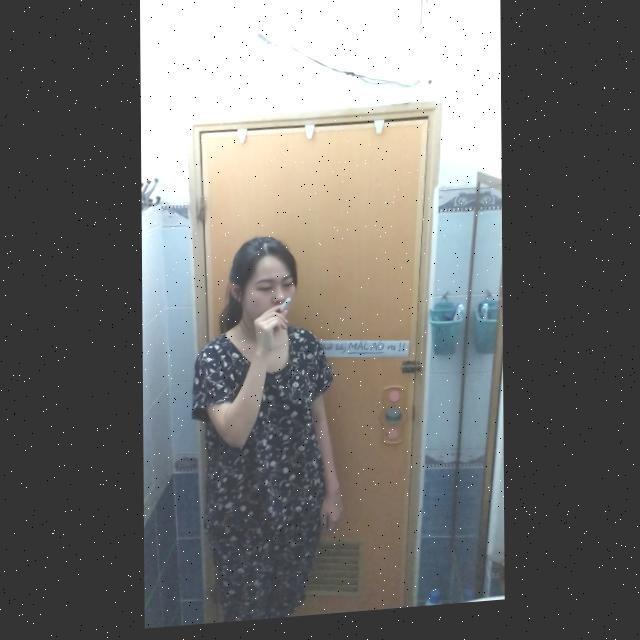cigarette: (278, 302, 290, 318)
